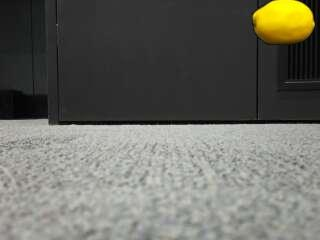lemon: (253, 0, 314, 44)
